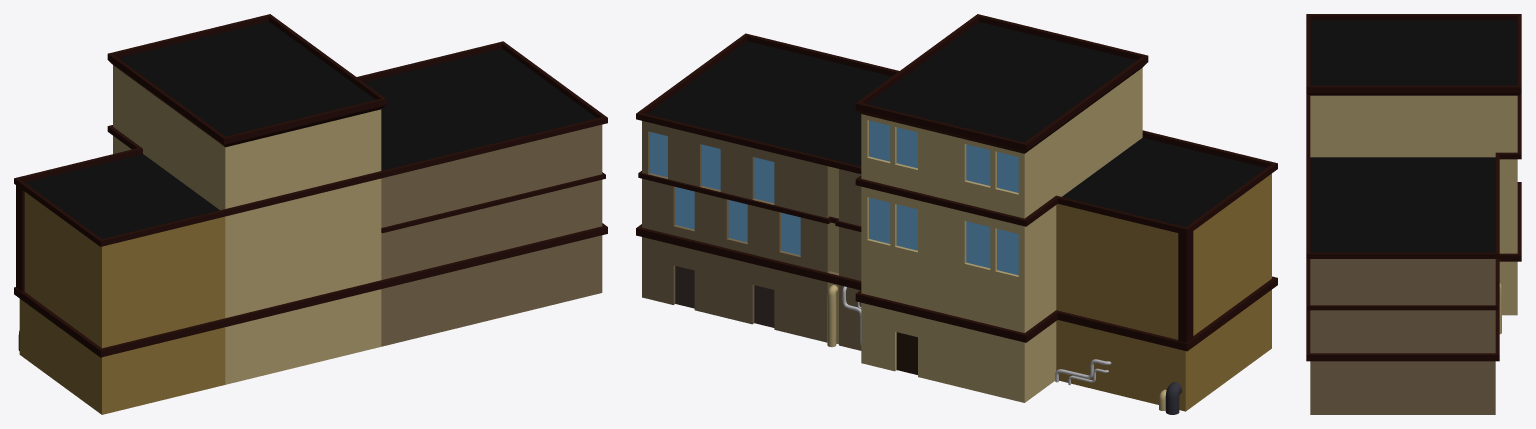
The model's file is BuildingVer15.fbx.
3 renders of one model, left to right at view 1: azimuth 30°, elevation 25°; view 2: azimuth 150°, elevation 25°; view 3: azimuth 270°, elevation 25°, orthographic. The views are drawn at different scales.
Parts seen in each view (by area): view 1: Box005; view 2: Box005; view 3: Box005.
Part boxes in pixels (box(x1,y1,x2,y2)): Box005: box(14, 14, 607, 414); Box005: box(636, 14, 1277, 414); Box005: box(1306, 14, 1521, 414).
Size of the model in its own units: 3195 by 1496 by 1270.
